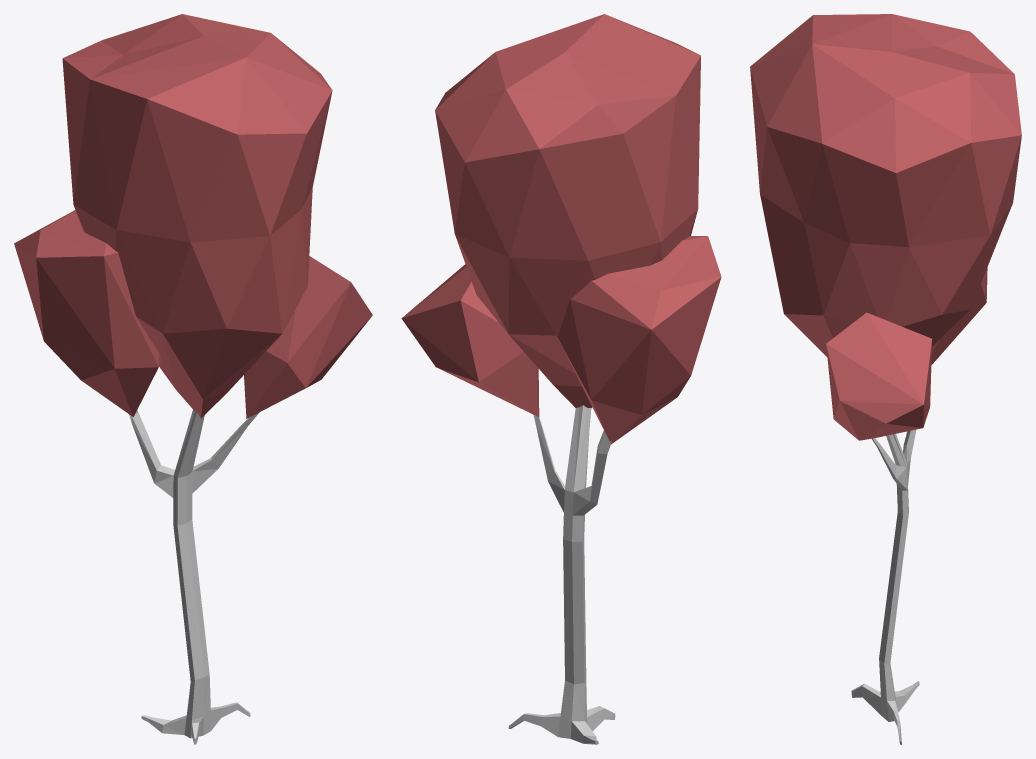
Rendered from world_2_tree_3.dae.
The picture shows the model from 3 angles, left to right: view 1: azimuth 30°, elevation 25°; view 2: azimuth 150°, elevation 25°; view 3: azimuth 270°, elevation 25°; orthographic projection. The views are drawn at different scales.
Parts seen in each view (by area): view 1: world_2_tree_3_leaves, world_2_tree_3_base; view 2: world_2_tree_3_leaves, world_2_tree_3_base; view 3: world_2_tree_3_leaves, world_2_tree_3_base.
Boxes of the visible parts, left/top/right/bottom form: world_2_tree_3_leaves: left=14, top=14, right=372, bottom=418; world_2_tree_3_base: left=129, top=410, right=259, bottom=744; world_2_tree_3_leaves: left=401, top=14, right=721, bottom=444; world_2_tree_3_base: left=508, top=405, right=615, bottom=744; world_2_tree_3_leaves: left=750, top=14, right=1021, bottom=440; world_2_tree_3_base: left=851, top=429, right=919, bottom=744.
Size of the model in its own units: 4.21 by 3.26 by 8.96.
